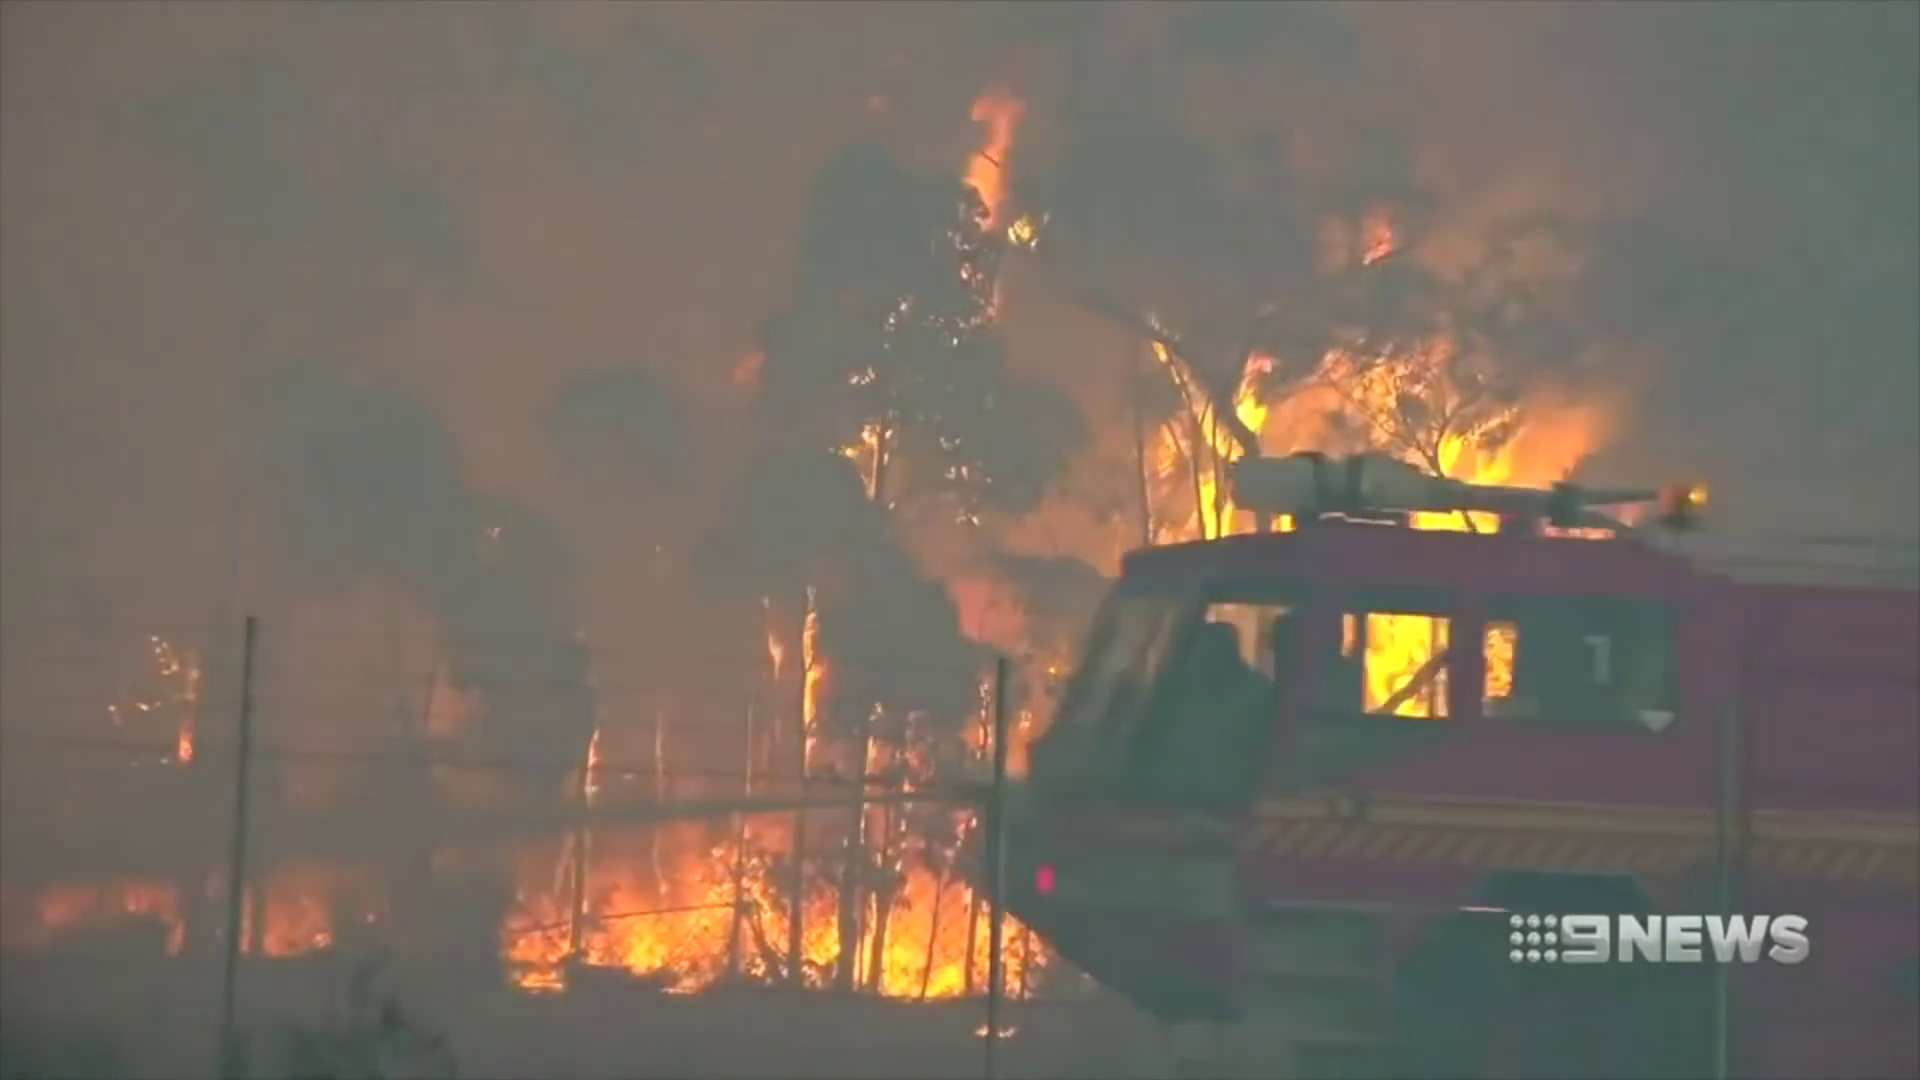fire: (1154, 360, 1265, 537), (593, 876, 727, 976), (1403, 429, 1502, 531), (1367, 613, 1433, 715), (887, 942, 961, 996), (1489, 629, 1511, 694)
